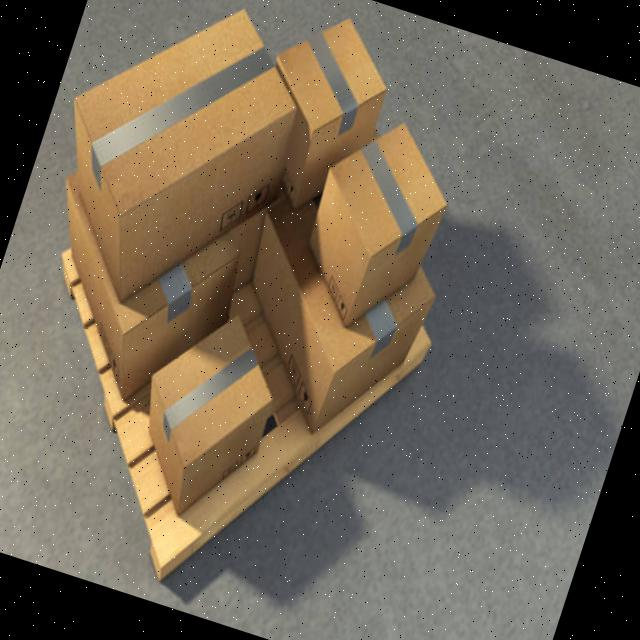Wooden-Pallets: (57, 254, 426, 587)
